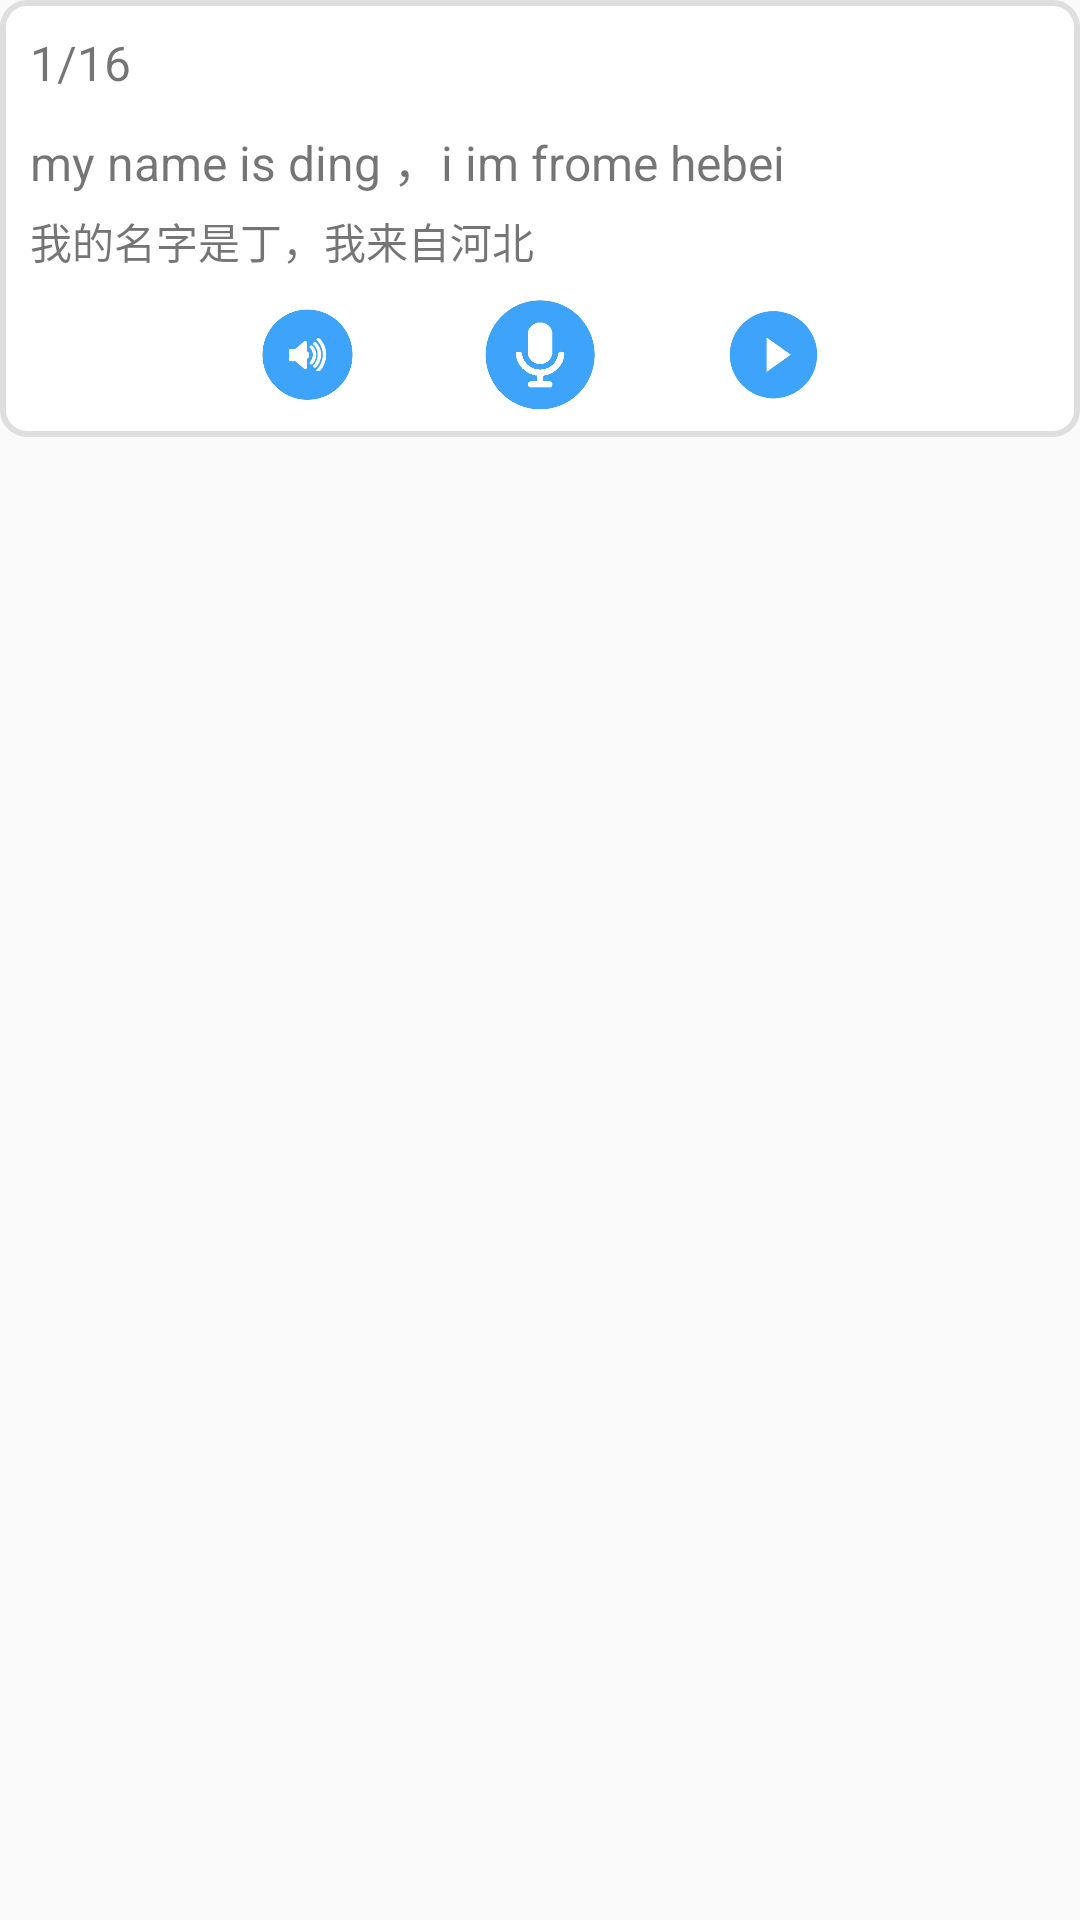

Icons on this 1080 × 1920 Android screen, each with the point to tap as (x=x, y=y):
bofangone: (x=774, y=355)
luyinone: (x=540, y=354)
yinliangone: (x=307, y=354)
